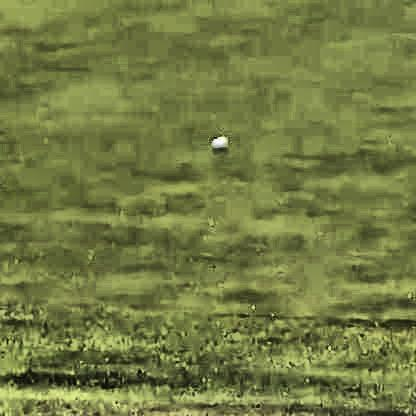golfball: (206, 132, 226, 150)
